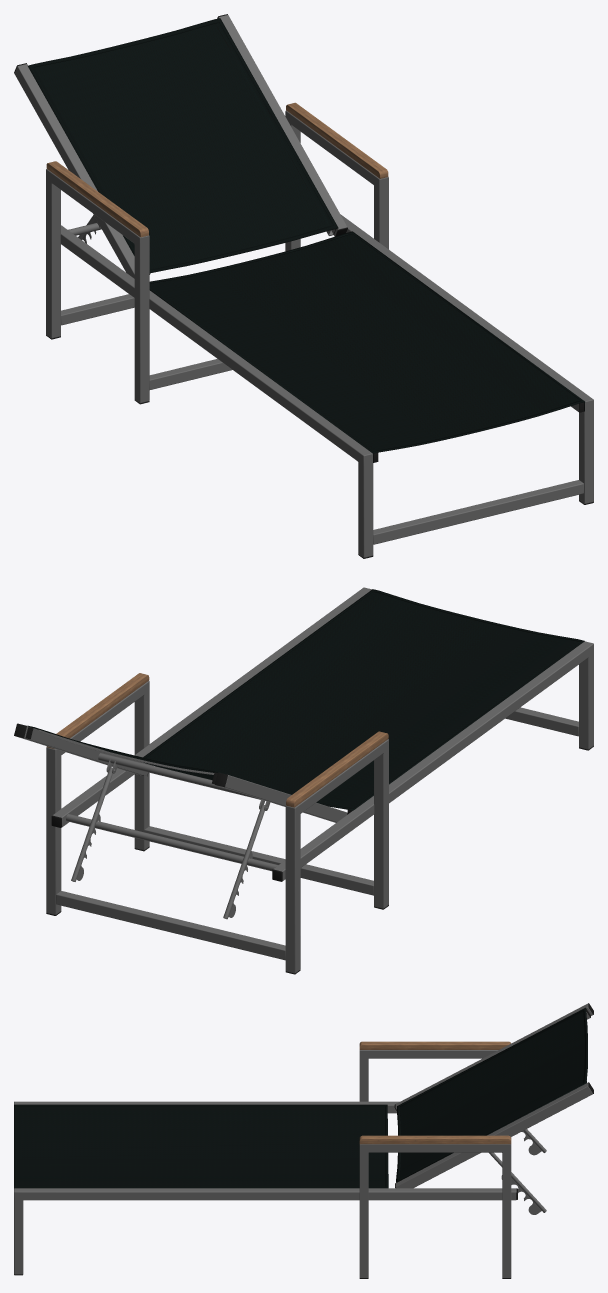
Rendered from sun_lounger_for_pool_1c8842e8.glb.
3 views of the same model, one above another, from view 1: azimuth 30°, elevation 25°; view 2: azimuth 150°, elevation 25°; view 3: azimuth 270°, elevation 25° (orthographic). The views are drawn at different scales.
Parts seen in each view (by area): view 1: sun_lounger_for_pool_1c8842e8; view 2: sun_lounger_for_pool_1c8842e8; view 3: sun_lounger_for_pool_1c8842e8.
Part boxes in pixels (bbox=[...]): sun_lounger_for_pool_1c8842e8: bbox=[14, 14, 593, 558]; sun_lounger_for_pool_1c8842e8: bbox=[14, 587, 593, 974]; sun_lounger_for_pool_1c8842e8: bbox=[14, 1003, 593, 1278].
Bounding box in the file's own units: 0.7563 × 0.6683 × 1.89.
4 materials, 2 textured.
